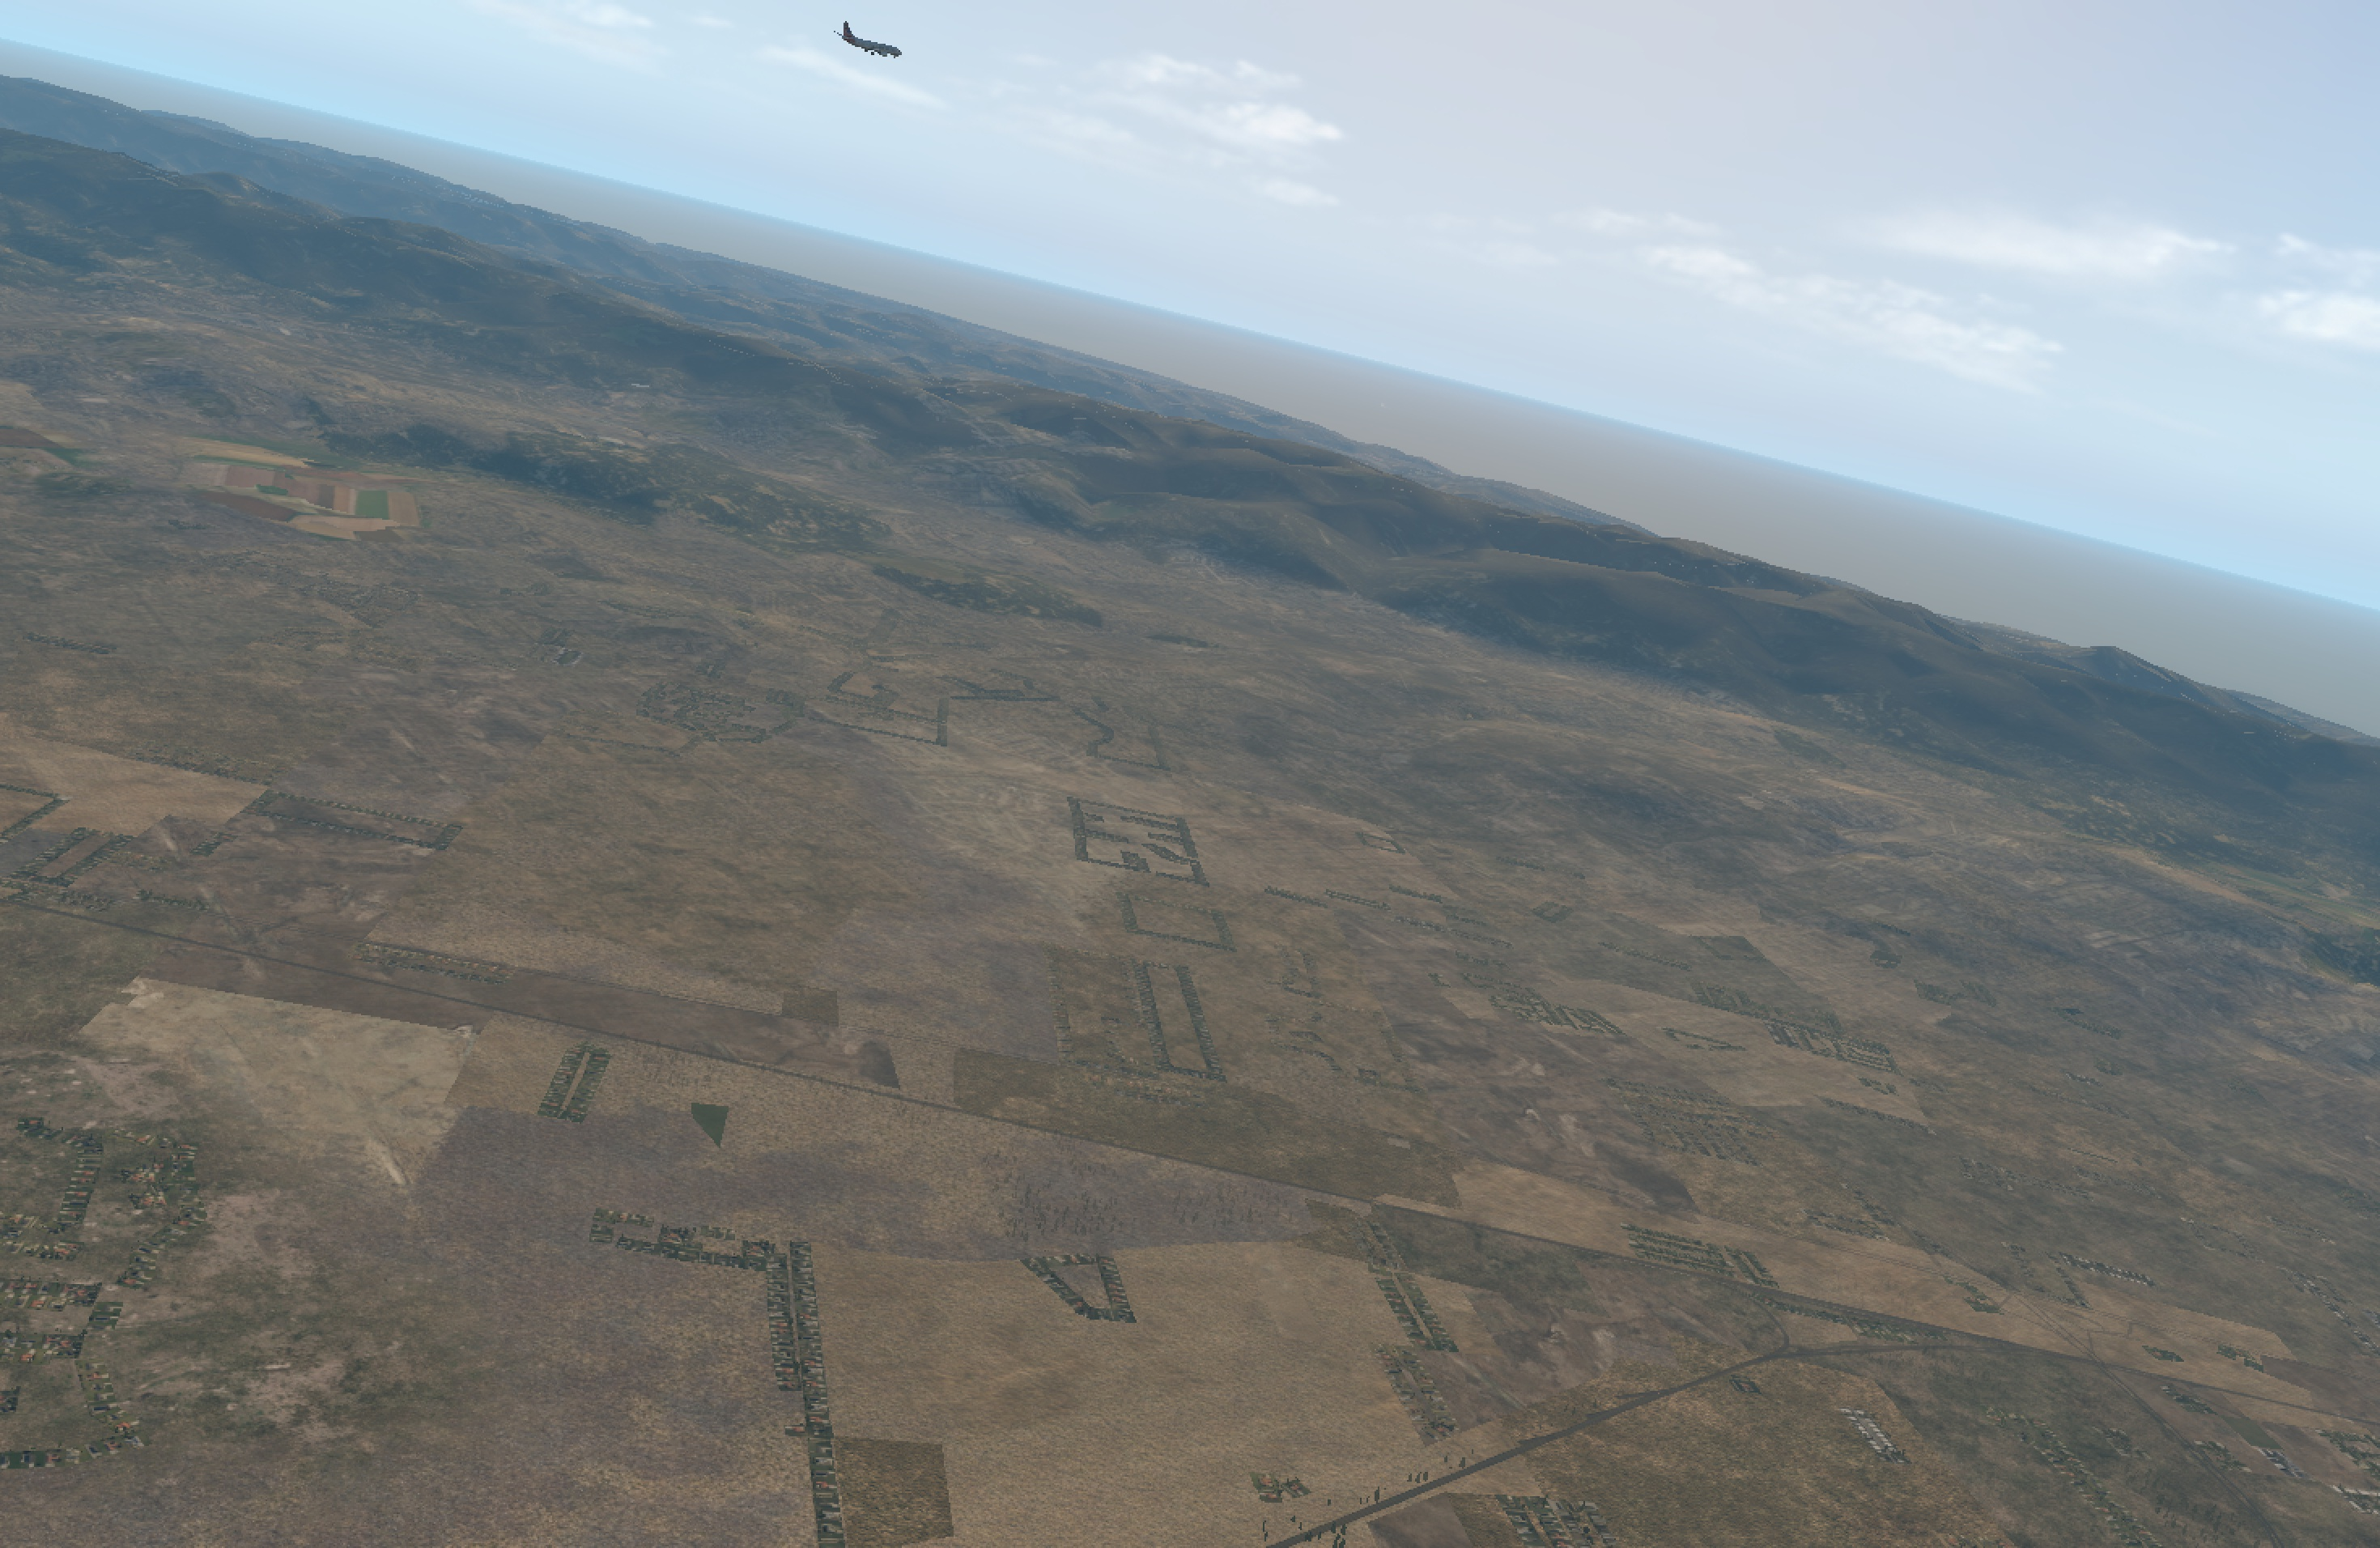aircraft: (836, 33, 911, 61)
